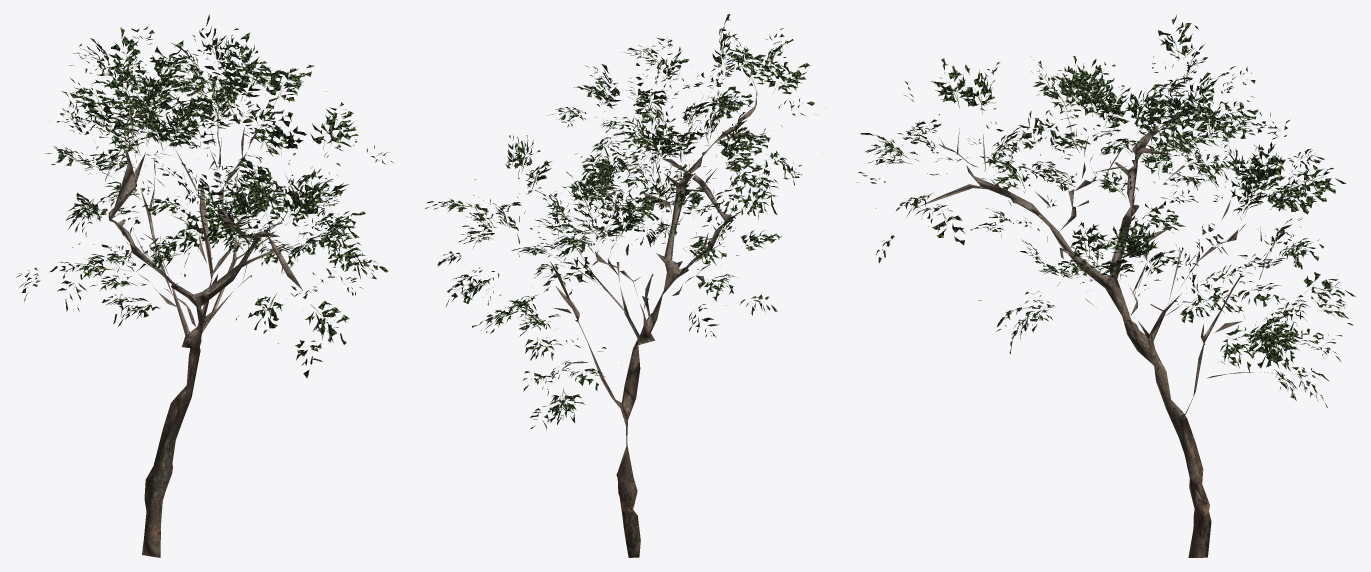
The model's file is tree_small_02.glb.
3 views of the same model, side by side, from view 1: azimuth 30°, elevation 25°; view 2: azimuth 150°, elevation 25°; view 3: azimuth 270°, elevation 25° (orthographic). The views are drawn at different scales.
Bounding box in the file's own units: 2.88 × 4.54 × 4.08.
3 materials, 3 textured.
